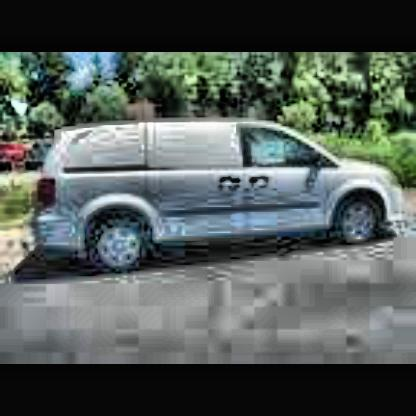Ram C-V Cargo Van Minivan 2012: (33, 119, 408, 283)
